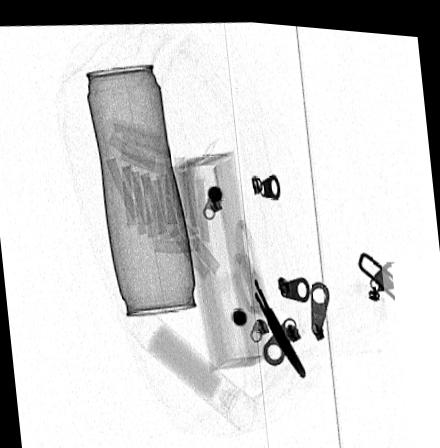Scissors: (230, 212, 306, 373)
